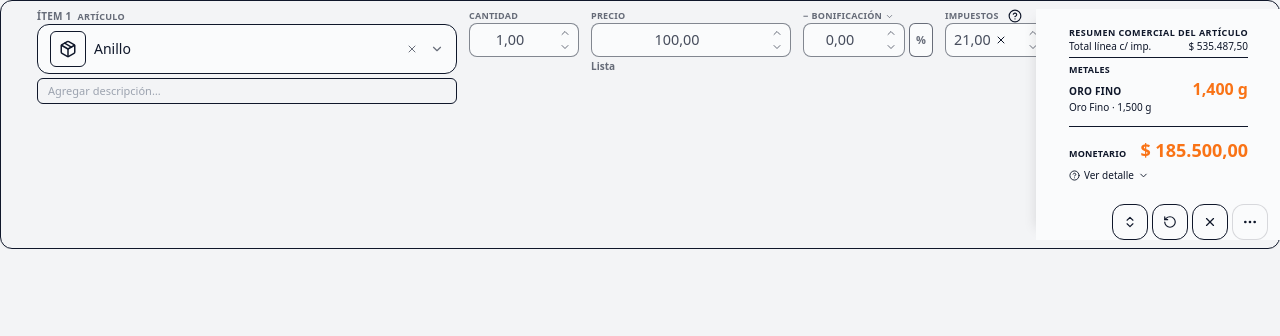
Test case: FASE 1 — Resumen Comercial lee lineCommercialSummary › CANÓNICO Desglosada: 3 líneas OCULTAS colapsado, VISIBLES al expandir; cierran contra el total
The image size is (1280, 336).
// EXPANDIR "Ver detalle" → Valor comercial del metal + las 3 líneas de detalle.
Click the button "Ver detalle".
click(1109, 175)  # box left=1069, top=169, right=1149, bottom=182
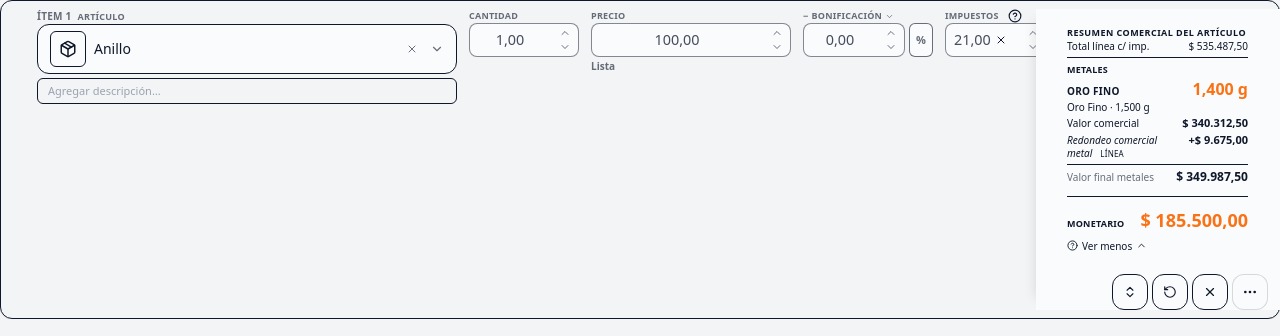
Check: the element showing "Valor final metales $ 349.987,50" is shown, box left=1067, top=164, right=1248, bottom=184
